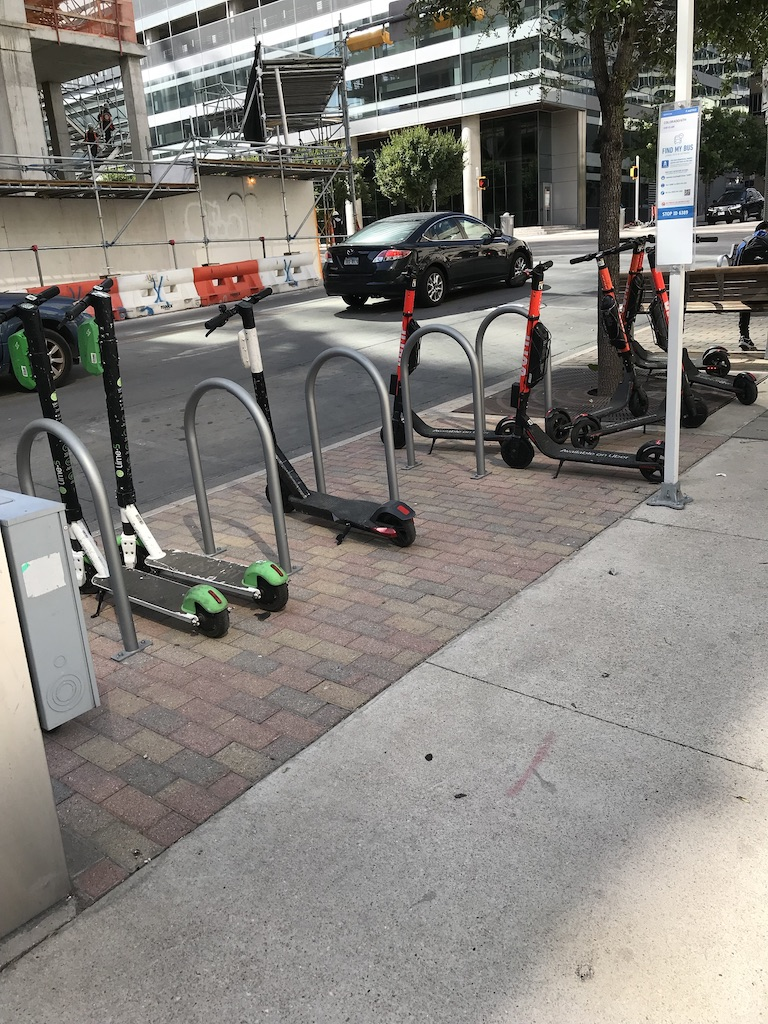scooter: (1, 284, 233, 640), (63, 276, 292, 612), (205, 287, 416, 550), (500, 260, 664, 482), (387, 266, 514, 449), (544, 247, 649, 445), (613, 238, 668, 371), (571, 397, 665, 449), (682, 349, 759, 406), (645, 245, 669, 354), (681, 364, 709, 430), (618, 235, 655, 274), (691, 346, 730, 378)
